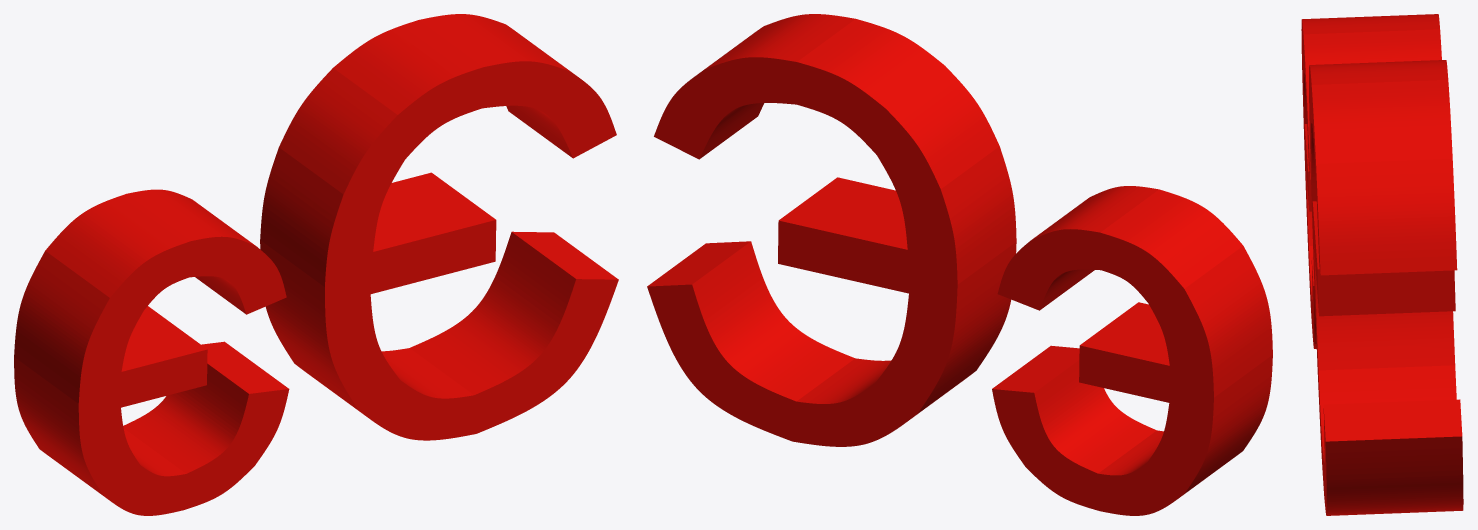
3 views of the same model, side by side, from view 1: azimuth 30°, elevation 25°; view 2: azimuth 150°, elevation 25°; view 3: azimuth 270°, elevation 25° (orthographic). The views are drawn at different scales.
Parts seen in each view (by area): view 1: Mesh_0.034; view 2: Mesh_0.034; view 3: Mesh_0.034.
Part boxes in pixels (left/top/right/bottom): Mesh_0.034: left=14, top=14, right=618, bottom=515; Mesh_0.034: left=647, top=14, right=1272, bottom=515; Mesh_0.034: left=1301, top=14, right=1463, bottom=515.
Bounding box in the file's own units: 11.56 × 7.46 × 2.64.
